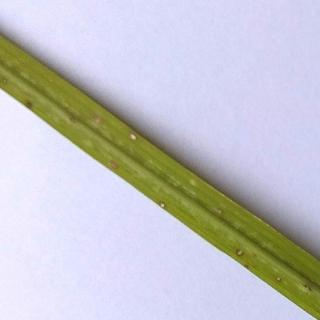Blast: (226, 232, 266, 276), (79, 102, 116, 140), (102, 146, 135, 181), (152, 190, 181, 221), (124, 127, 143, 150)
